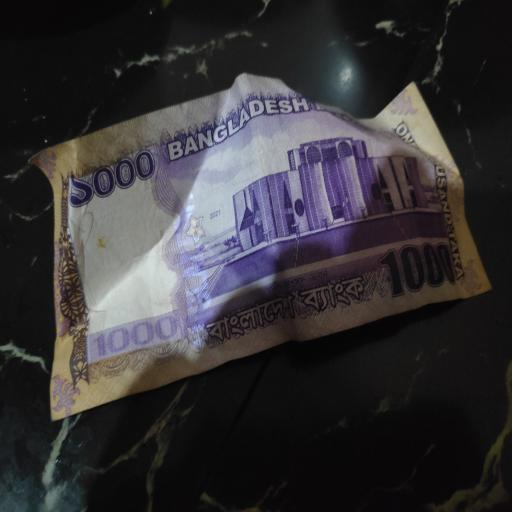1000taka: (36, 81, 490, 422)
